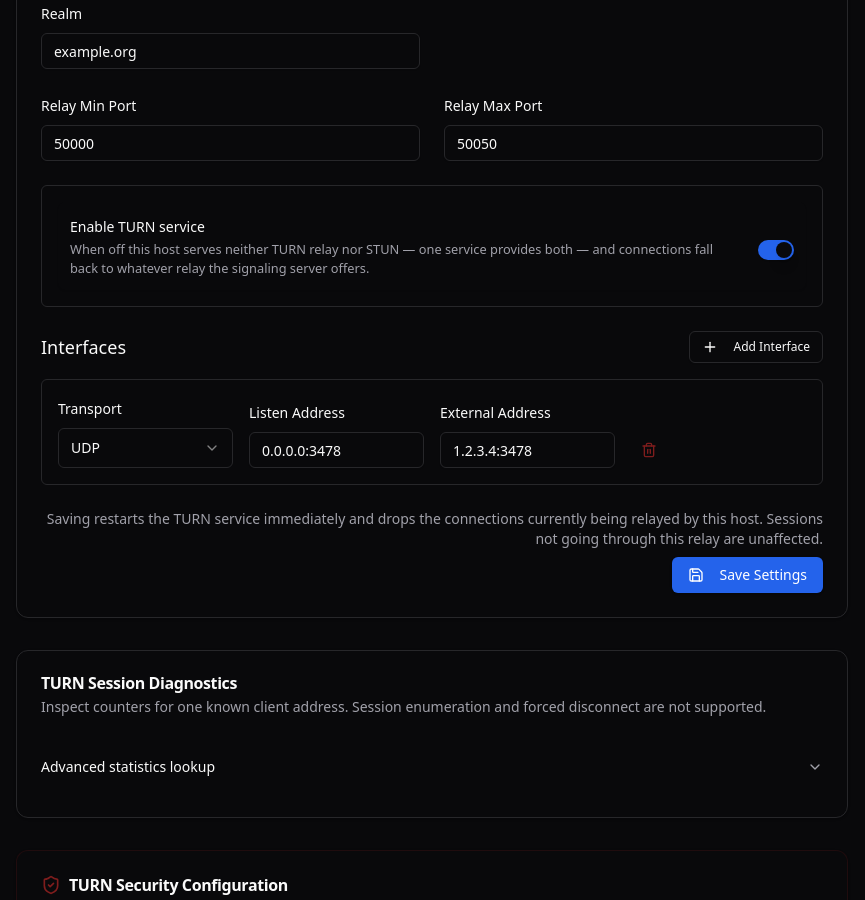
Scenario: TurnSettings — interface addresses › refuses a wildcard external address
The width and height of the screenshot is (865, 900).
(page scrolled)
In the field showing "1.2.3.4:3478": (528, 450) [440,432,615,468], type "0.0.0.0:3478"
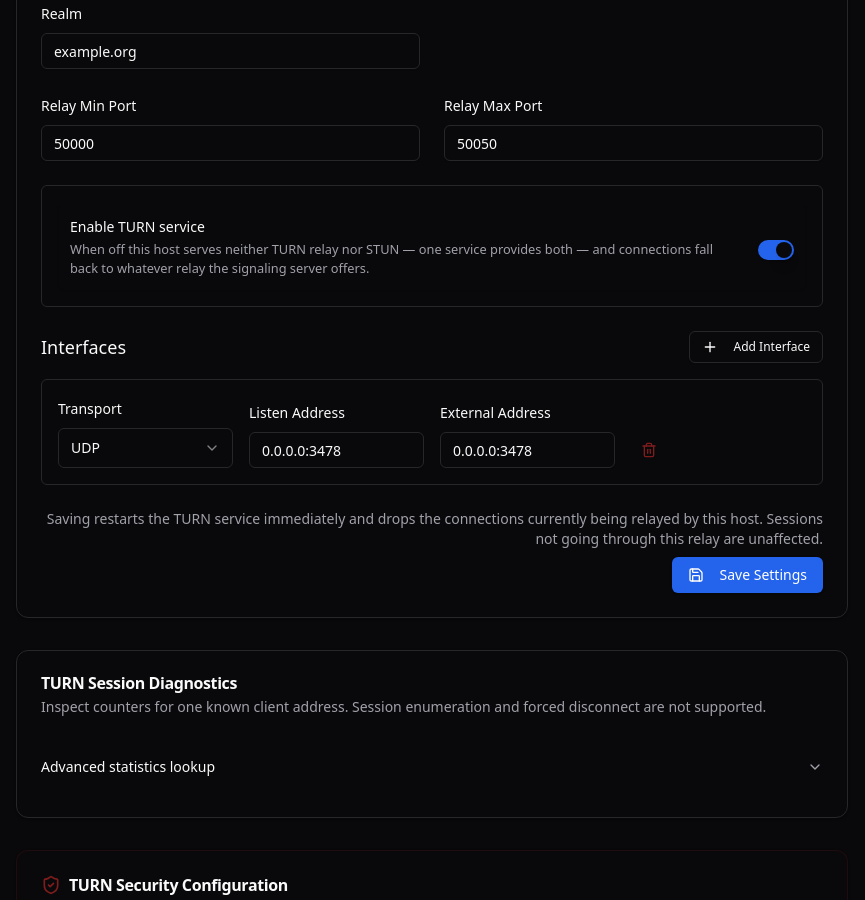
Click the button "Save Settings": click(747, 575) [672,557,823,593]
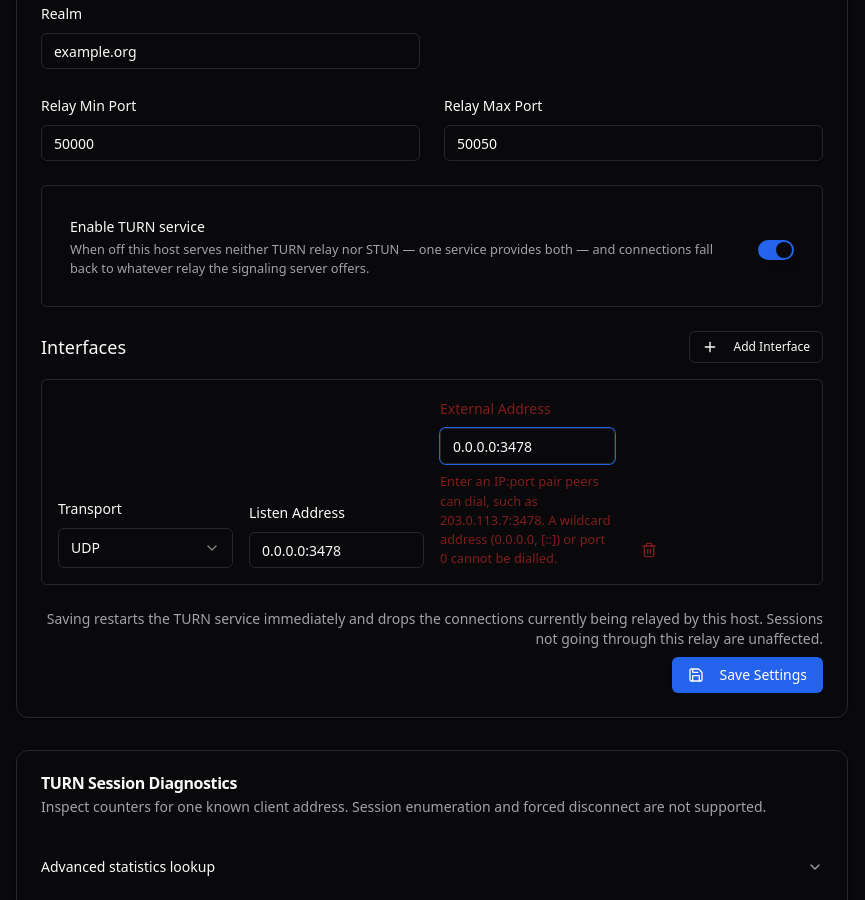
Expected: the text "wildcard address" is shown, [440,472,611,567]
